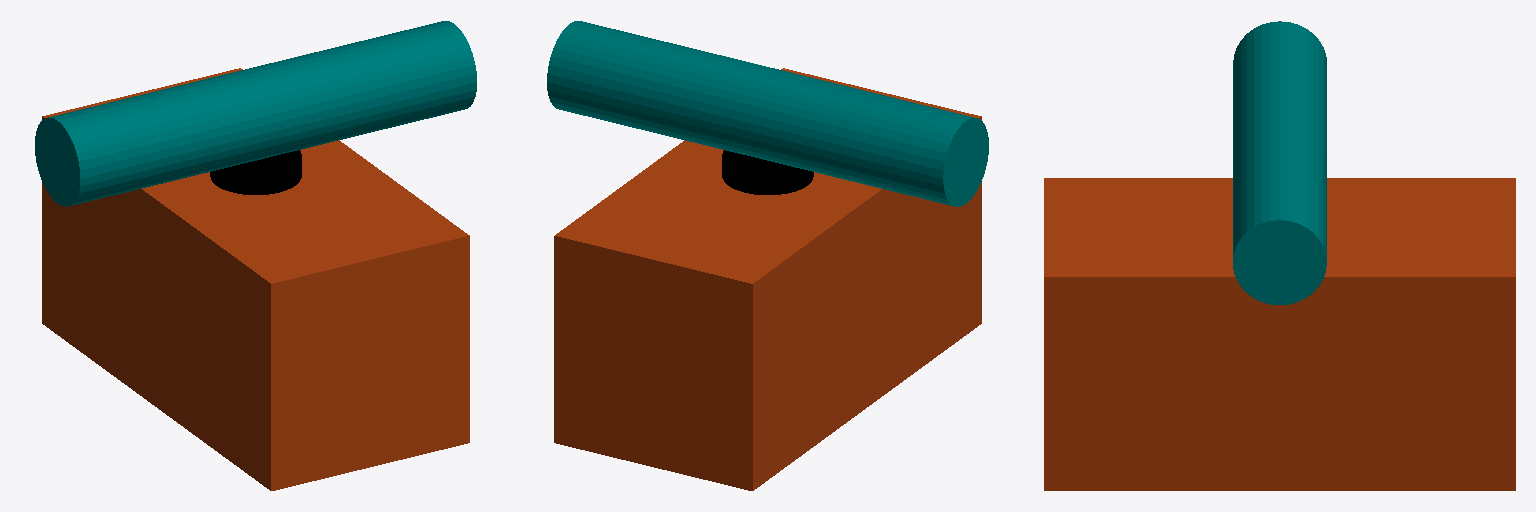
robot.urdf — servo_robot:
<?xml version="1.0"?>
<robot name="servo_robot">
    <link name="world_link">
        
    </link>

    <link name="base_link">
        <visual name="">
            <origin xyz="0.0 0.0 0.0" rpy="0.0 0.0 0.0"/>
            <geometry>
                <box size="1.0 2.0 1.0"/>
            </geometry>
            <material name="Red1">
                <color rgba="0.7 0.3 0.1 1.0"/>
                <texture filename=""/>
            </material>
        </visual>
    </link>

    <link name="stand_link">
        <visual>
            <origin xyz="0.0 0.0 0.0" rpy="0.0 0.0 0.0"/>
            <geometry>
                <cylinder radius="0.2" length="0.2"/>
            </geometry>
            <material name="Black1">
                <color rgba="0.0 0.0 0.0 1.0"/>
            </material>
        </visual>
    </link>

    <link name="knob_link">
        <visual>
            <origin xyz="0.0 0.0 0.0" rpy="1.57 0.0 0.0"/>
            <geometry>
                <cylinder radius="0.2" length="2.0"/>
            </geometry>
            <material name="Cyan2">
                <color rgba="0.0 0.5 0.5 0.8"/>
            </material>
        </visual>
    </link>

    <joint name="world_base" type="fixed">
        <parent link="world_link"/>
        <child link="base_link"/>
        <origin xyz="0.0 0.0 0.5" rpy="0.0 0.0 0.0"/>
    </joint>

    <joint name="world_stand_joint" type="fixed">
        <parent link="world_link"/>
        <child link="stand_link"/>
        <origin xyz="0.0 0.0 1.0" rpy="0.0 0.0 0.0"/>
    </joint>

    <!-- <joint name="world_knob_joint" type="revolute">
        <parent link="world_link"/>
        <child link="knob_link"/>
        <axis xyz="0 -1 0"/>
        <limit lower="-3.14159" upper="3.14159" velocity="50.0" effort="1000.0"/>
        <origin xyz="0 0 1.3" rpy="1.57 0 1.57"/>
    </joint> -->

    <joint name="world_knob_joint" type="fixed">
        <parent link="world_link"/>
        <child link="knob_link"/>
        <origin xyz="0.0 0.0 1.3" rpy="0 0.0 1.57"/>
    </joint>
    
</robot>

--- Facts derived from the render (not from the file) ---
3 views of the same robot in one strip: view 1: azimuth 30°, elevation 25°; view 2: azimuth 150°, elevation 25°; view 3: azimuth 270°, elevation 25° (orthographic).
Model servo_robot with 4 links and 3 joints (3 fixed), rooted at world_link, posed all joints at 0.
Links seen in each view (by area): view 1: base_link, knob_link, stand_link; view 2: base_link, knob_link, stand_link; view 3: base_link, knob_link.
Link boxes in pixels (x1=…): base_link: x1=42, y1=68, x2=469, y2=490; knob_link: x1=35, y1=21, x2=476, y2=206; stand_link: x1=210, y1=150, x2=301, y2=194; base_link: x1=554, y1=68, x2=981, y2=490; knob_link: x1=547, y1=21, x2=988, y2=206; stand_link: x1=722, y1=150, x2=813, y2=194; base_link: x1=1044, y1=178, x2=1515, y2=490; knob_link: x1=1233, y1=21, x2=1326, y2=304.
Bounding box of the posed robot: 2 × 2 × 1.5 m (x, y, z).
Geometry: primitives only (box / cylinder / sphere), no mesh files.